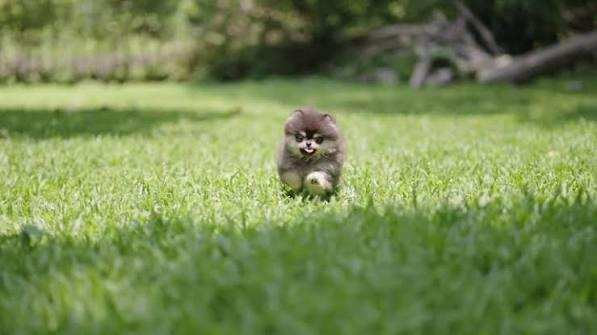puppy-dog: (275, 107, 349, 200)
